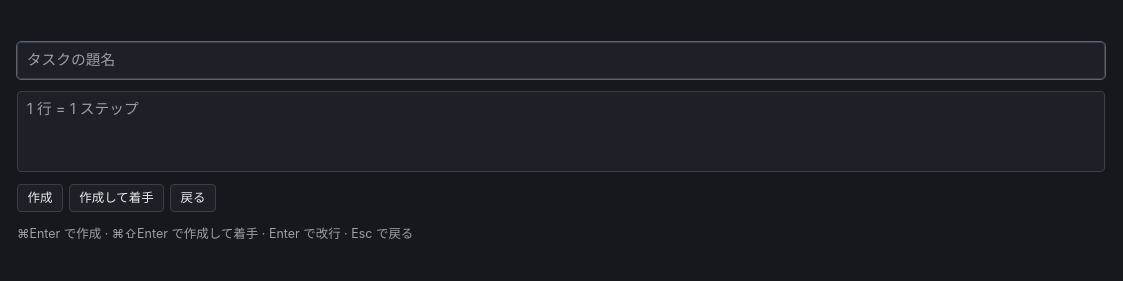
Test: 題名が無ければ作成は失敗し、面は閉じず入力も残る
This screenshot has width=1123, height=281.
Type "構成を決める" into the text box with class "steps" at point(561, 131), box [17,91,1105,172]
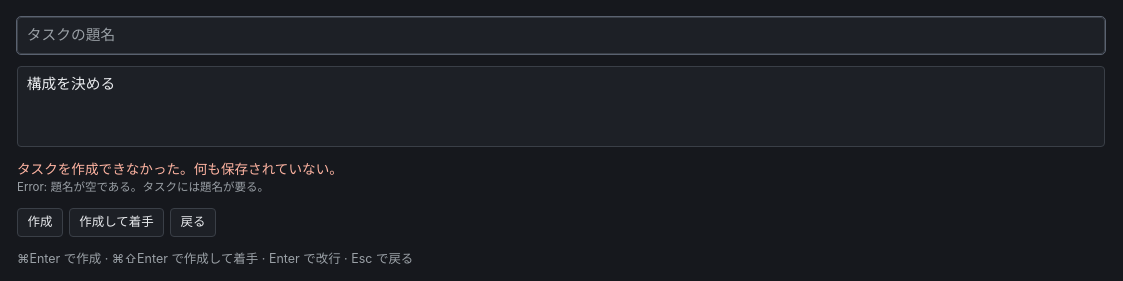
Expected: the field with class "title" is shown, [17,17,1105,54]
Expected: the message "タスクを作成できなかった。何も保存されていない。 Error: 題名が空である。タスクには題名が要る。" is shown, [17,161,343,194]
